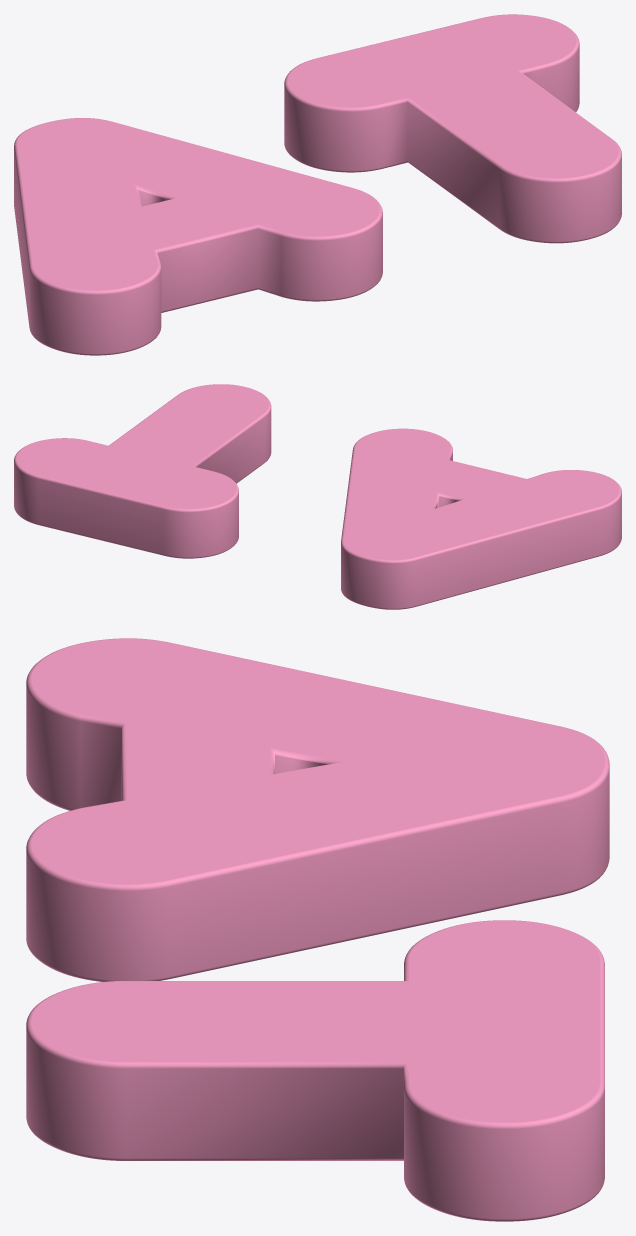
The picture shows the model from 3 angles, top to bottom: view 1: azimuth 30°, elevation 25°; view 2: azimuth 150°, elevation 25°; view 3: azimuth 270°, elevation 25°; orthographic projection. The views are drawn at different scales.
Visible parts, largest first — view 1: Text; view 2: Text; view 3: Text.
Boxes of the visible parts, x1,y1,x2,y2 form: Text: [14, 14, 621, 355]; Text: [14, 384, 621, 609]; Text: [26, 638, 609, 1221].
Size of the model in its own units: 1.17 by 0.11 by 0.5903.
